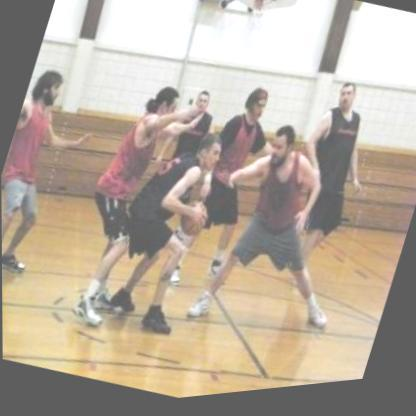basketball: (172, 196, 215, 249)
